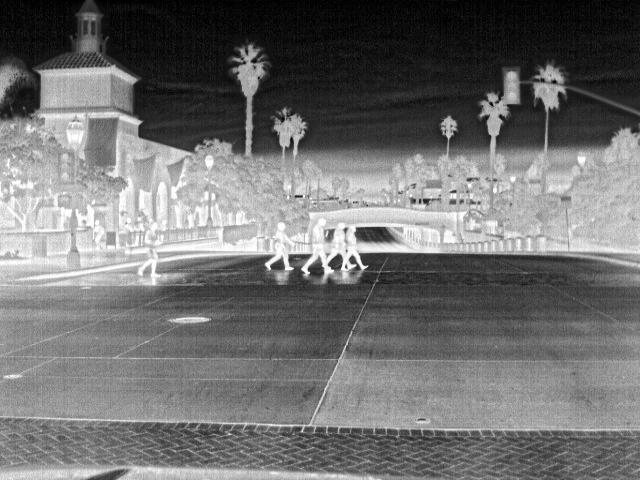person: (300, 218, 338, 274), (262, 219, 298, 271), (134, 220, 163, 278), (322, 222, 355, 269), (338, 223, 370, 267), (91, 220, 108, 250), (120, 216, 135, 232), (142, 213, 156, 228), (132, 214, 145, 230), (156, 218, 168, 232)
